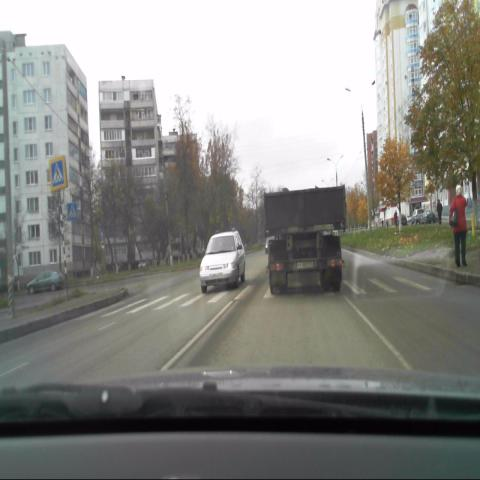5_19_1: (50, 156, 67, 189), (67, 202, 77, 219)
